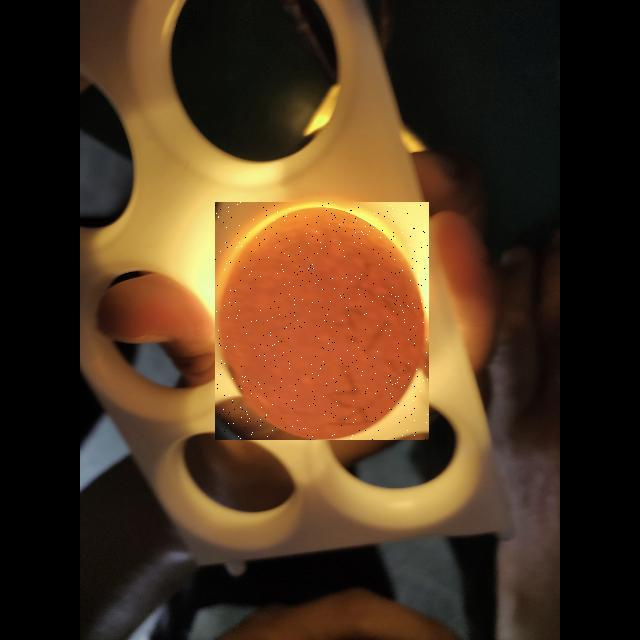Infertile: (215, 202, 429, 440)
